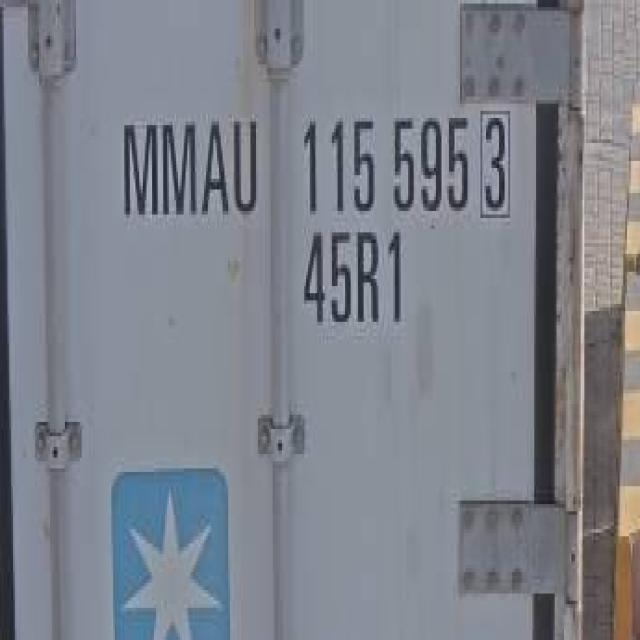dv: (475, 97, 517, 223)
owner: (118, 107, 262, 224)
serial: (296, 106, 470, 218)
size: (299, 224, 409, 334)
